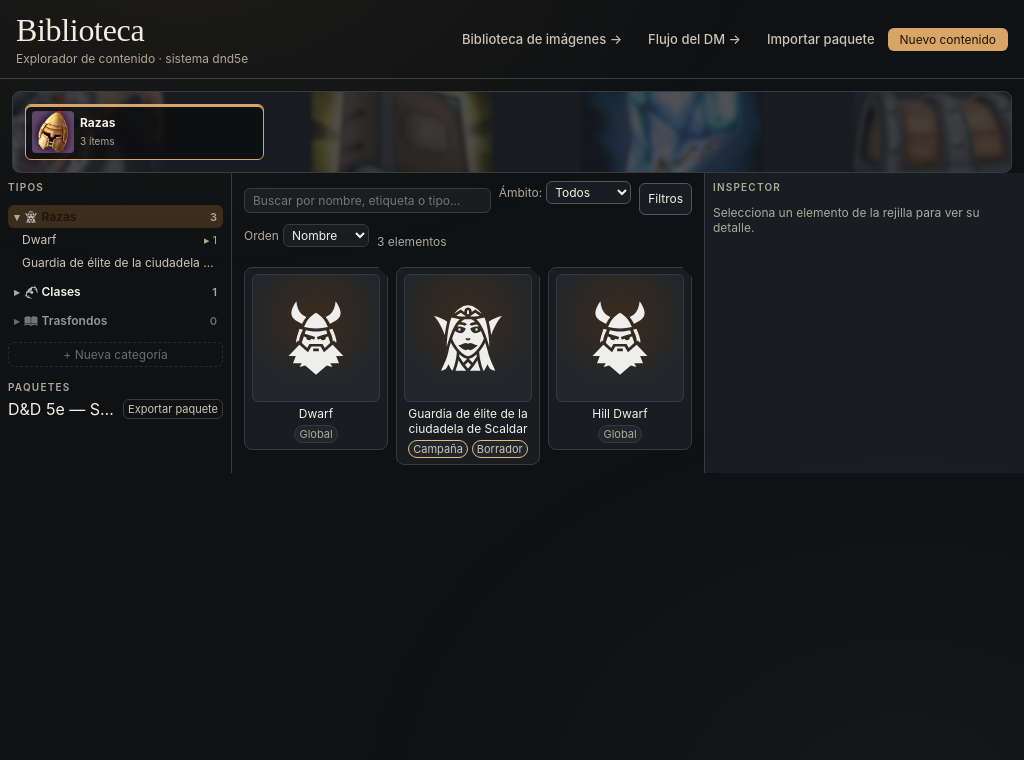
Scenario: Explorador de Biblioteca real (PMB-4.2) › carga tipos, items y paquetes: árbol, rejilla e inspector reales
Expected: the button "▾ Razas 3" is shown, [8,205,223,228]
Expected: the button "▸ Clases 1" is shown, [8,280,223,303]
// Seleccionar Dwarf: propiedades formateadas + procedencia del SRD.
Click the button "Dwarf ▸ 1": (116, 240) [8,228,223,251]
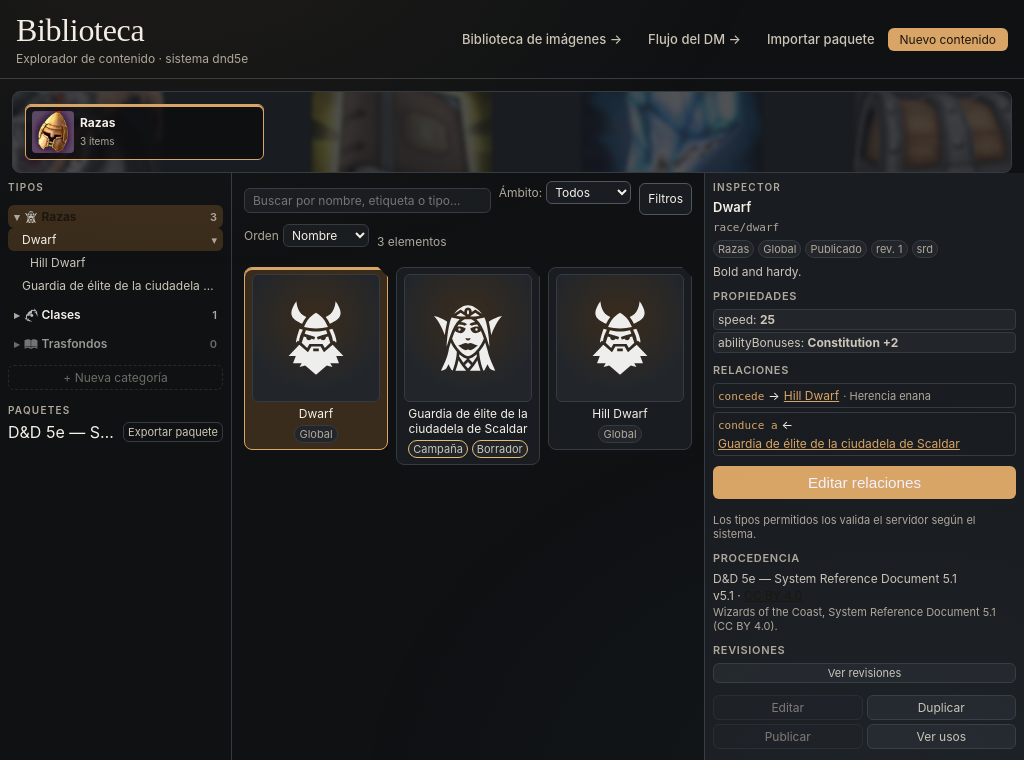
Now the heading "Dwarf" is shown, box [713,199,751,215]
Now the text "race/dwarf" is shown, box [713,221,779,234]
Now the text "Constitution +2" is shown, box [808,335,898,350]
